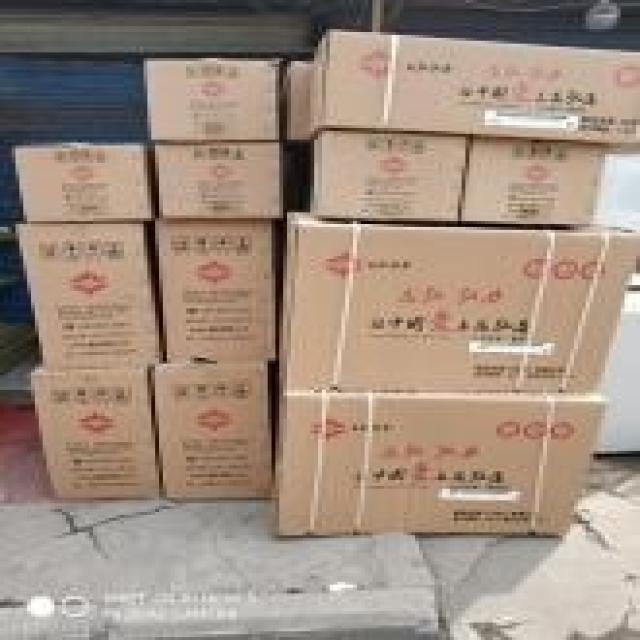box: (277, 208, 636, 391), (277, 389, 611, 536), (311, 33, 636, 148), (12, 221, 166, 367), (29, 357, 163, 499), (152, 216, 278, 363), (151, 363, 273, 500), (307, 126, 471, 223), (459, 136, 604, 226), (149, 58, 283, 142), (15, 144, 156, 220), (157, 139, 282, 217), (281, 60, 310, 141)
